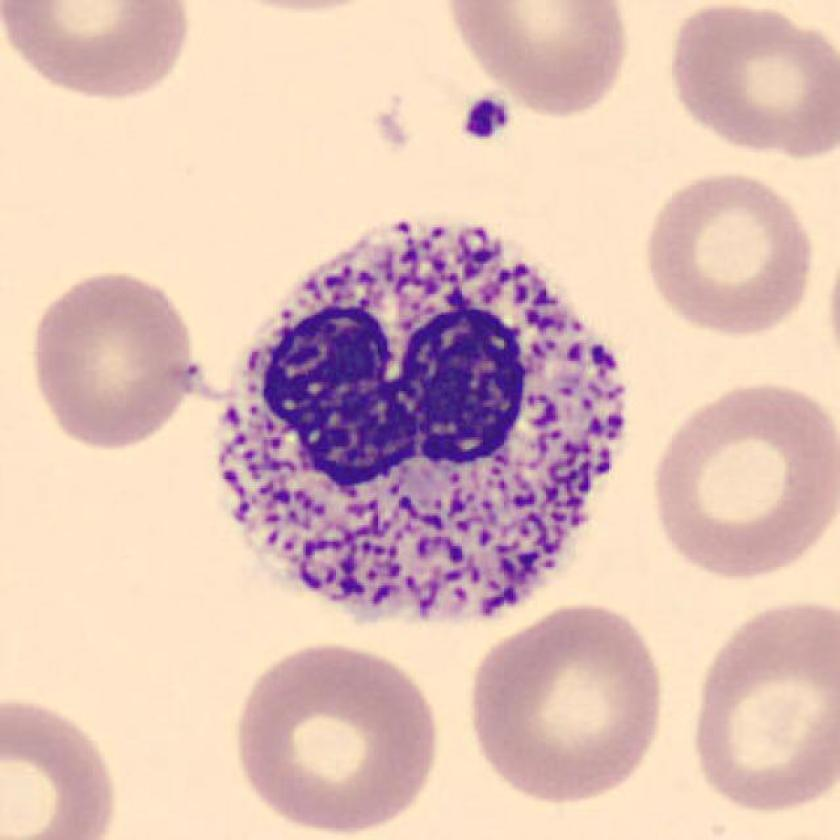neutrophil: (223, 223, 626, 617)
